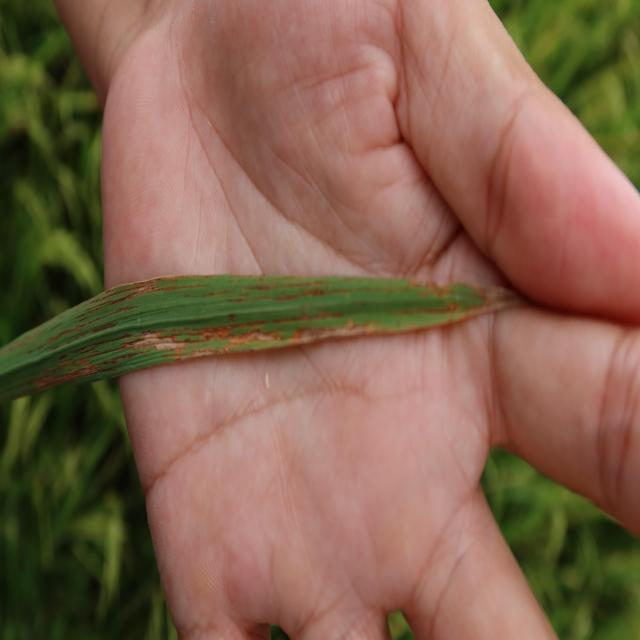Dom soc vi khuan: (213, 317, 379, 347), (118, 329, 202, 354), (127, 278, 164, 298)
